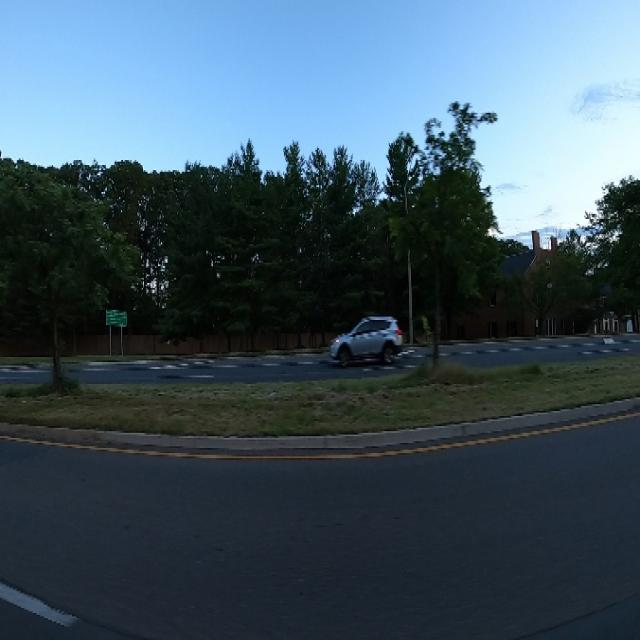car: (327, 307, 405, 376)
